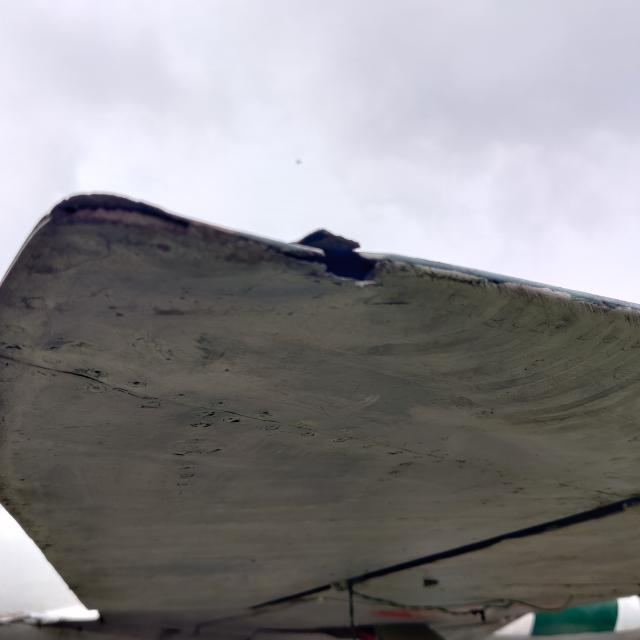crack: (271, 211, 401, 299)
